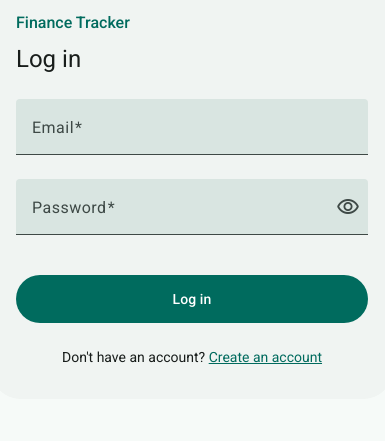
Test: LoginComponent › says "Email or password is incorrect." on 401
This screenshot has width=385, height=441.
In the field labelled "Email": (192,135) [32,123,352,147], type "kasia@example.com"
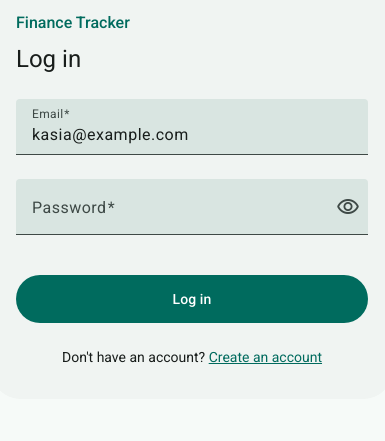
In the password field labelled "Password": (178,215) [32,203,324,227], type "wrong"
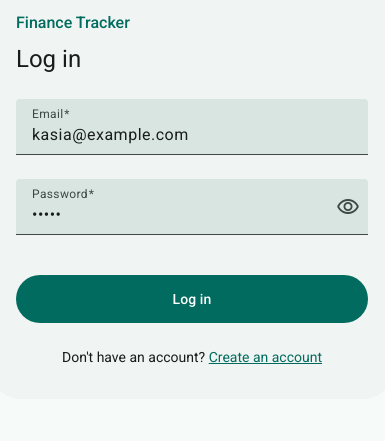
Click the submit button: (192,299) [16,275,368,323]
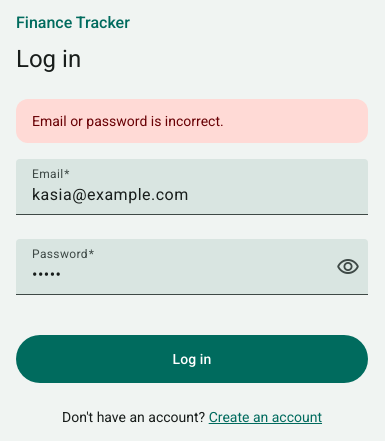
Check: the message "Email or password is incorrect." is shown, box [16,99,368,143]
